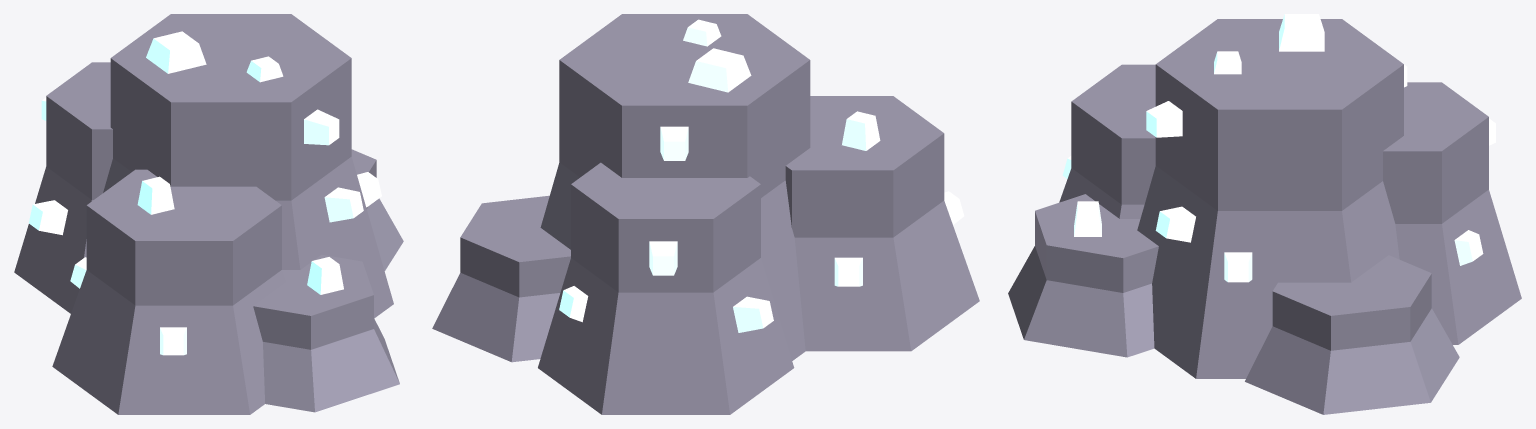
Rendered from rock_crystalsLargeA.glb.
3 renders of one model, left to right at view 1: azimuth 30°, elevation 25°; view 2: azimuth 150°, elevation 25°; view 3: azimuth 270°, elevation 25°, orthographic. The views are drawn at different scales.
Parts seen in each view (by area): view 1: rock_crystalsLargeA; view 2: rock_crystalsLargeA; view 3: rock_crystalsLargeA.
Boxes of the visible parts, x1,y1,x2,y2 form: rock_crystalsLargeA: (14, 14, 403, 414); rock_crystalsLargeA: (432, 14, 979, 414); rock_crystalsLargeA: (1008, 14, 1521, 414).
Bounding box in the file's own units: 0.8339 × 0.541 × 0.9193.
